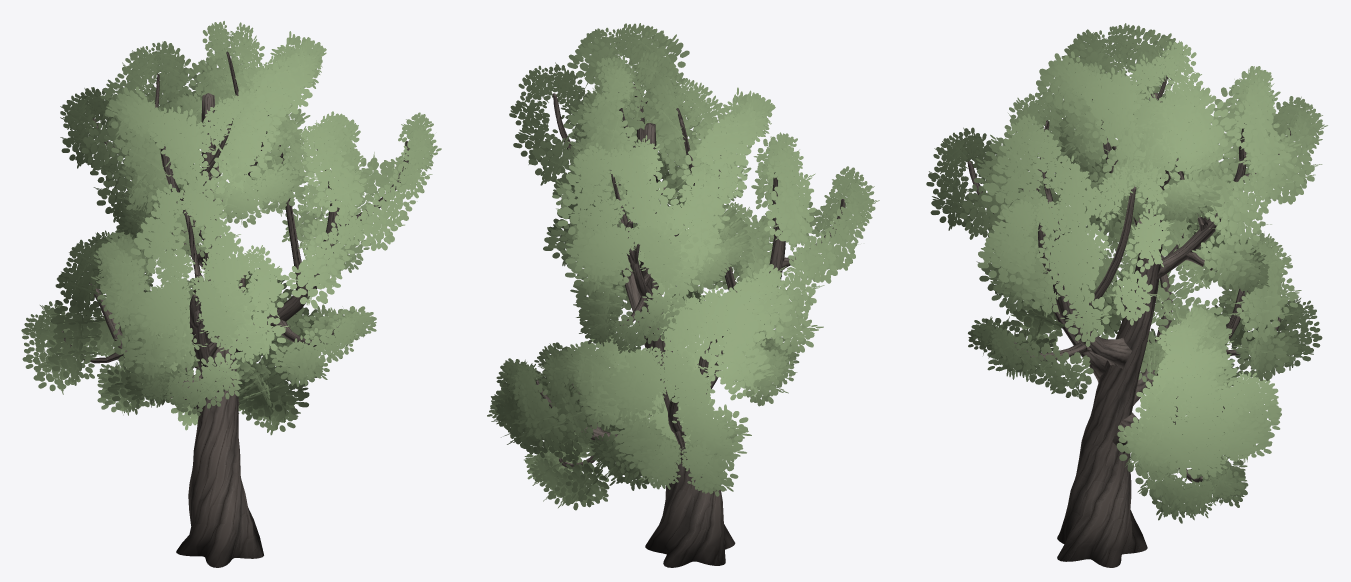
File: TwistedTree_3.gltf
The picture shows the model from 3 angles, left to right: view 1: azimuth 30°, elevation 25°; view 2: azimuth 150°, elevation 25°; view 3: azimuth 270°, elevation 25°; orthographic projection. The views are drawn at different scales.
Visible parts, largest first — view 1: TwistedTree_3; view 2: TwistedTree_3; view 3: TwistedTree_3.
Part boxes in pixels (bbox=[...]): TwistedTree_3: bbox=[21, 21, 441, 567]; TwistedTree_3: bbox=[487, 23, 879, 567]; TwistedTree_3: bbox=[926, 23, 1327, 567].
Size of the model in its own units: 11.36 by 16.07 by 11.51.
2 materials, 2 textured.
